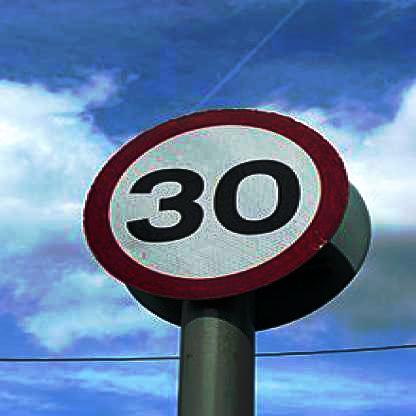Speed Limit -30-: (76, 106, 357, 301)
